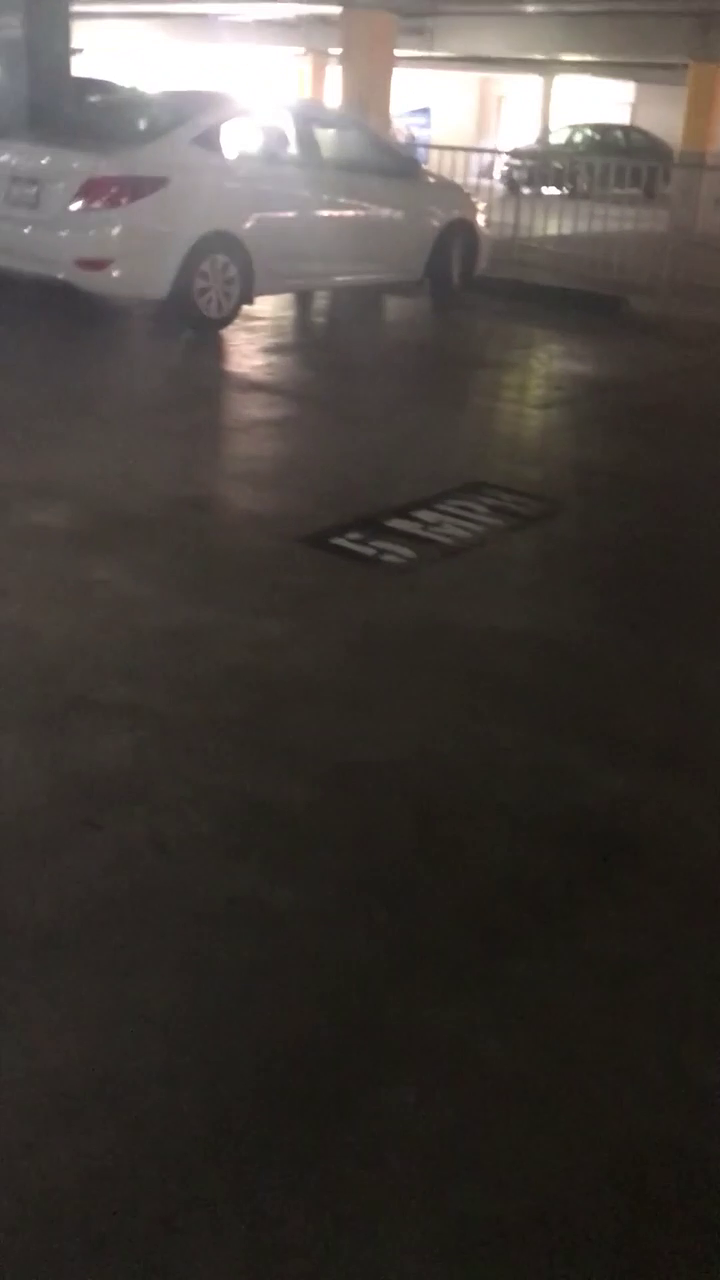car: (16, 64, 513, 326)
